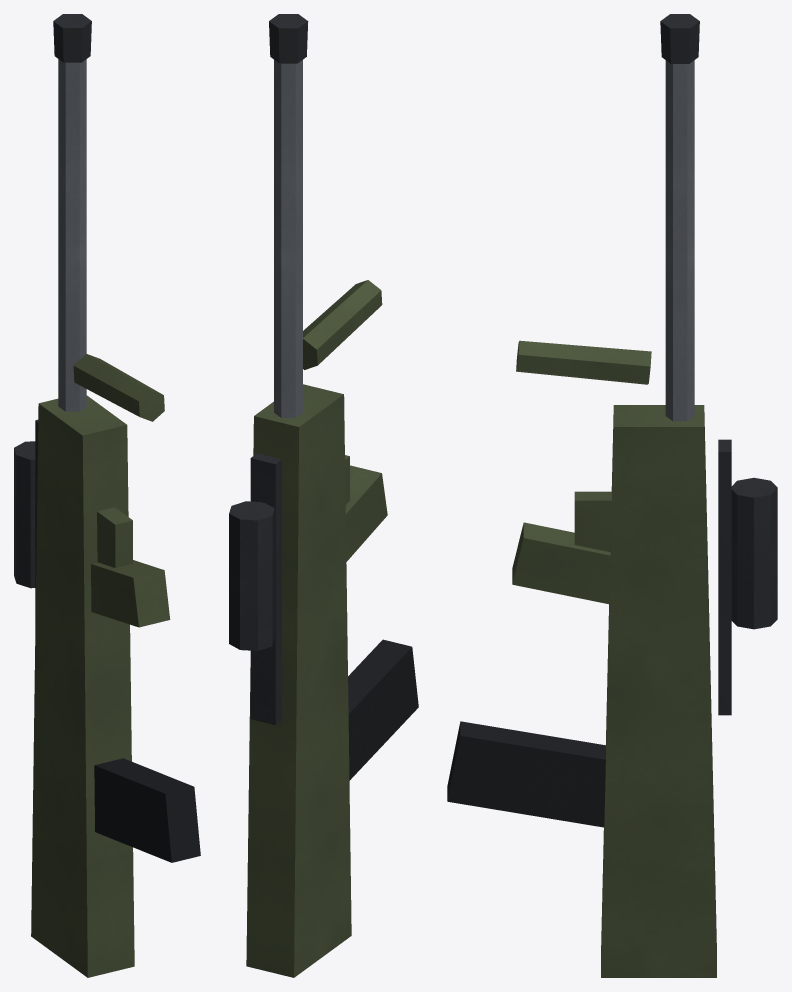
The model's file is weapon_aug.glb.
3 renders of one model, left to right at view 1: azimuth 30°, elevation 25°; view 2: azimuth 150°, elevation 25°; view 3: azimuth 270°, elevation 25°, orthographic. The views are drawn at different scales.
Visible parts, largest first — view 1: Weapon_AUG; view 2: Weapon_AUG; view 3: Weapon_AUG.
Boxes of the visible parts, box(x1,y1,x2,y2) form: Weapon_AUG: box(14, 14, 200, 977); Weapon_AUG: box(229, 14, 418, 977); Weapon_AUG: box(447, 14, 777, 977).
Size of the model in its own units: 0.042 by 0.79 by 0.2505.
4 materials, 4 textured.
